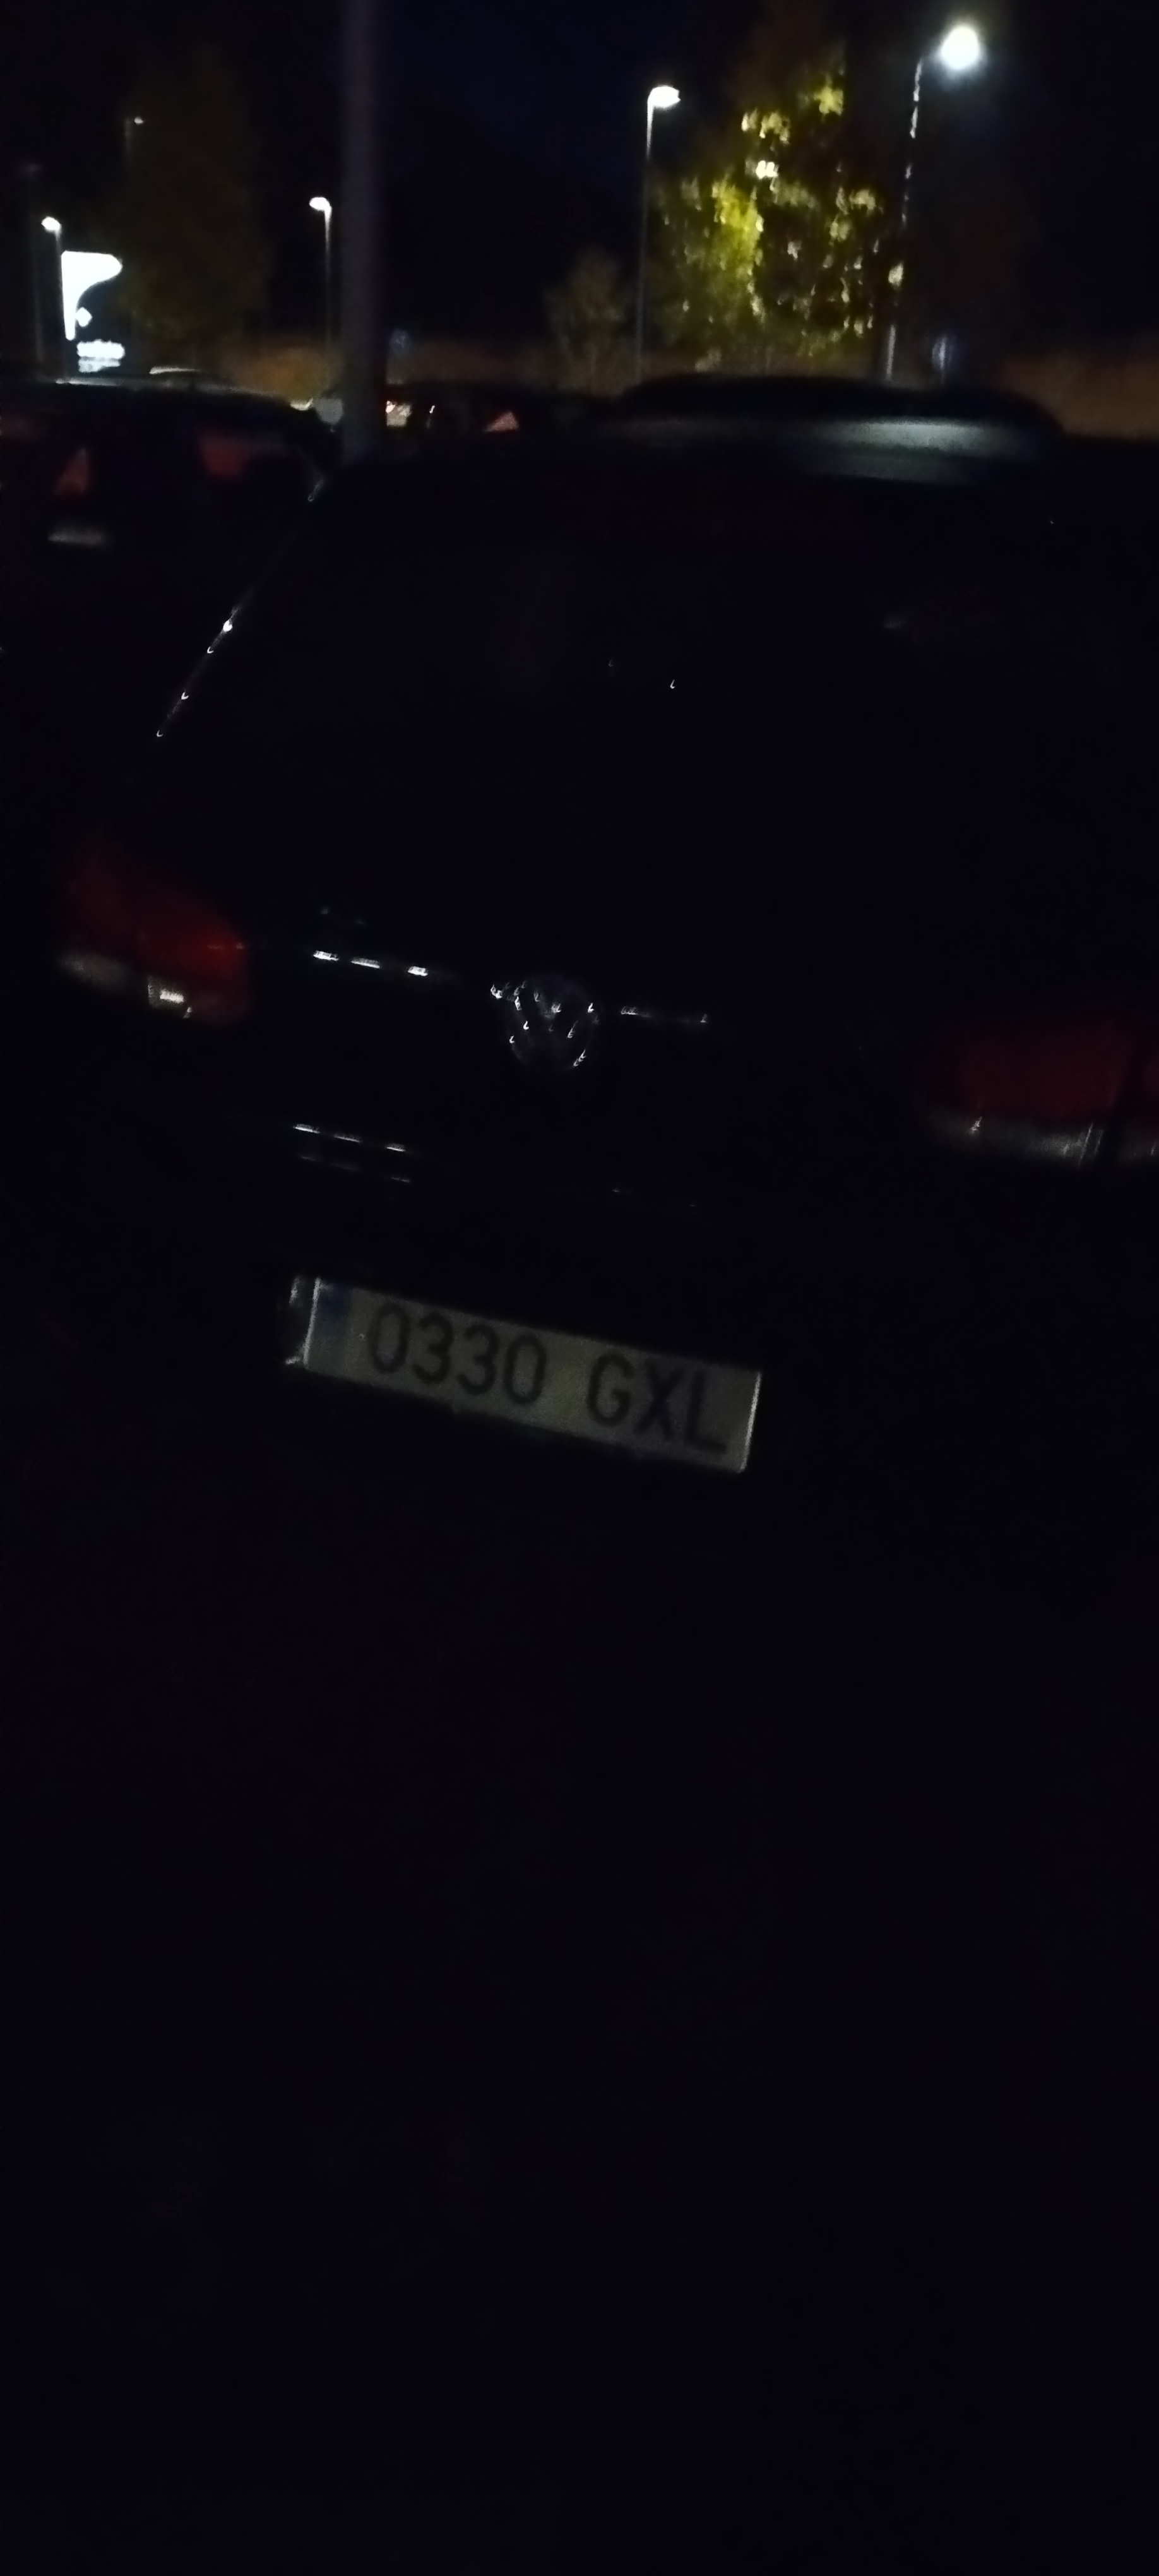Plate: (294, 1268, 770, 1373)
